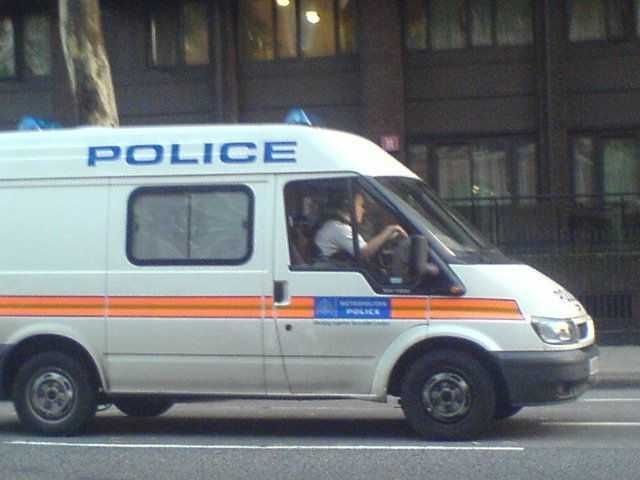Police Van: (0, 123, 602, 442)
